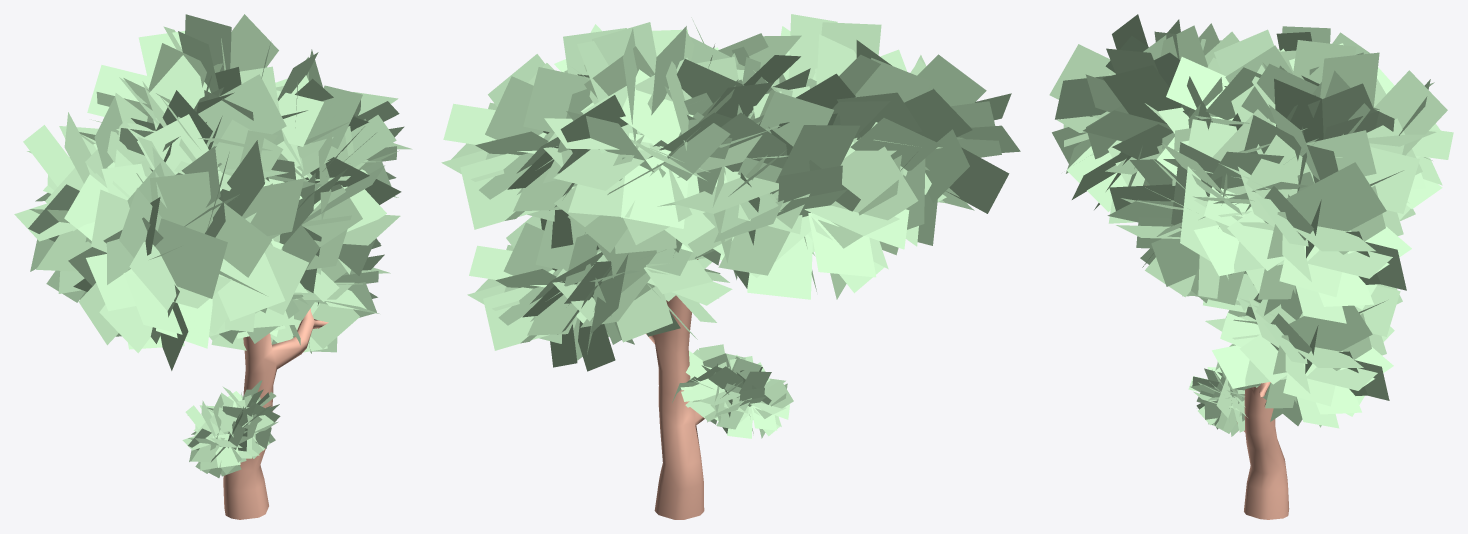
Rendered from tree_06.fbx.
3 renders of one model, left to right at view 1: azimuth 30°, elevation 25°; view 2: azimuth 150°, elevation 25°; view 3: azimuth 270°, elevation 25°, orthographic. The views are drawn at different scales.
Visible parts, largest first — view 1: Tree_06; view 2: Tree_06; view 3: Tree_06.
Part boxes in pixels (x1=…): Tree_06: x1=14, y1=14, x2=412, y2=519; Tree_06: x1=441, y1=14, x2=1020, y2=519; Tree_06: x1=1049, y1=14, x2=1453, y2=519.
Size of the model in its own units: 714 by 757 by 601.
